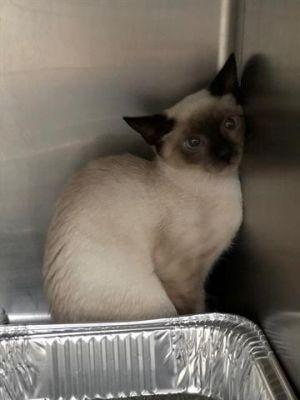siamese: (115, 47, 265, 205)
